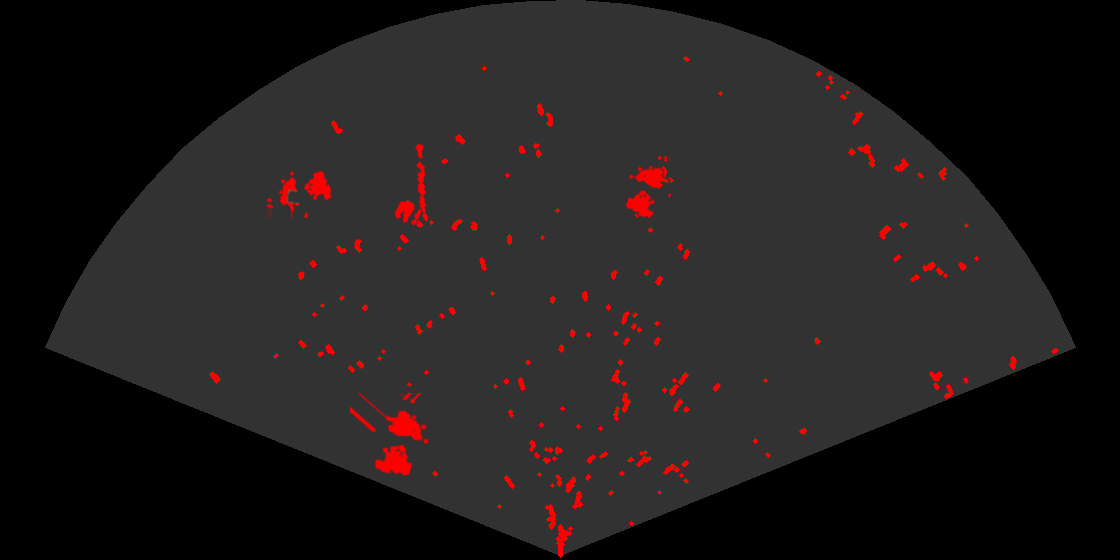ball: (393, 198, 423, 227)
cage: (350, 393, 430, 477), (267, 169, 334, 218), (624, 156, 671, 220)
chain: (413, 143, 430, 223)
